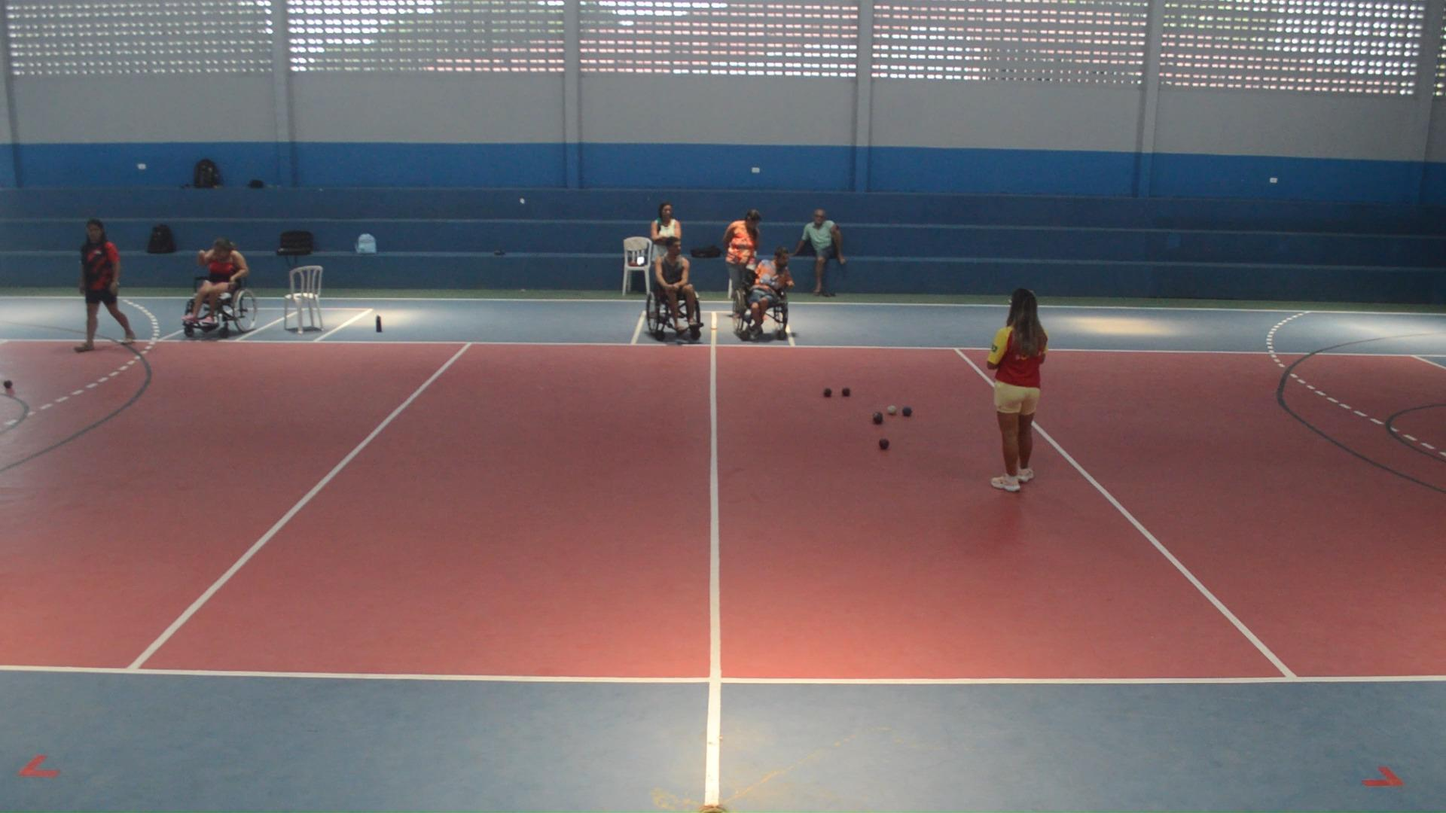blue_ball: (901, 405, 913, 418)
red_ball: (877, 437, 891, 451), (872, 412, 884, 425), (821, 387, 833, 398), (841, 387, 851, 397)
white_ball: (886, 405, 898, 416)
